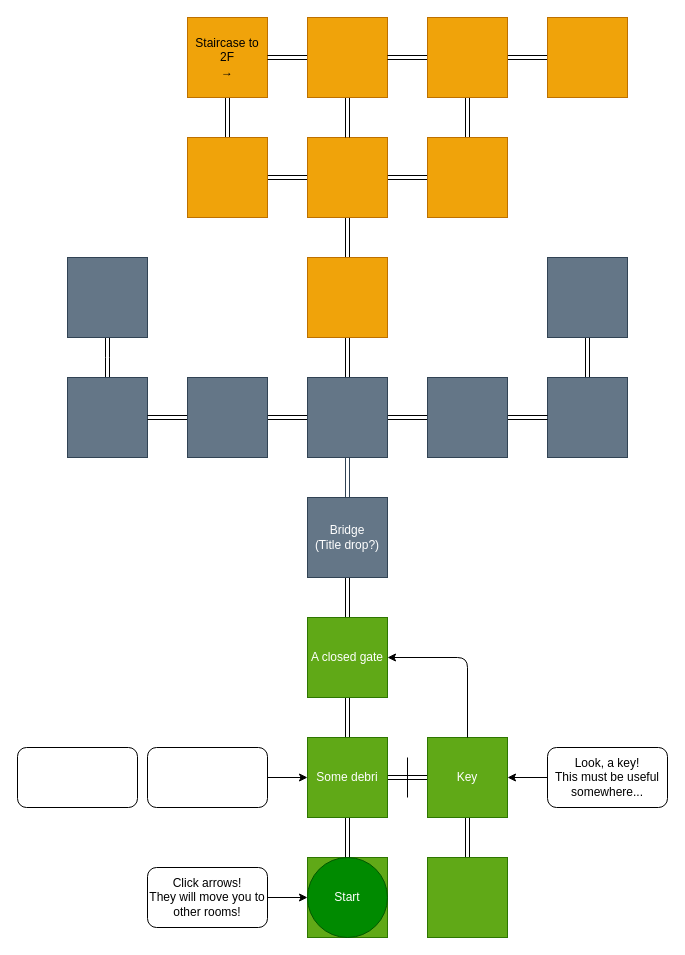
The diagram is 685 pixels wide and 955 high, and some of its shapes have lost their labels. The centre of each missing label's shape, as x and y in pixels:
By pressing Q and E you can rotate the camera!: the point at 77,777
Meta?: the point at 467,897
Staircase to 2F ←: the point at 467,57
Try and have a look at where this road leads to...: the point at 207,777
